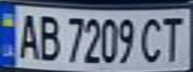0: (100, 15, 121, 64)
2: (81, 13, 103, 64)
7: (60, 12, 84, 64)
9: (115, 15, 139, 65)
A: (12, 10, 42, 61)
B: (33, 11, 63, 62)
C: (139, 13, 166, 64)
T: (157, 12, 190, 63)
